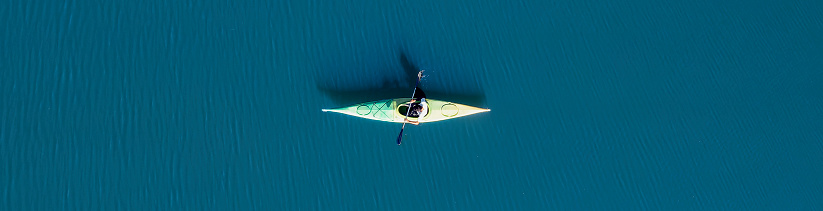kayaker: (320, 70, 493, 149)
